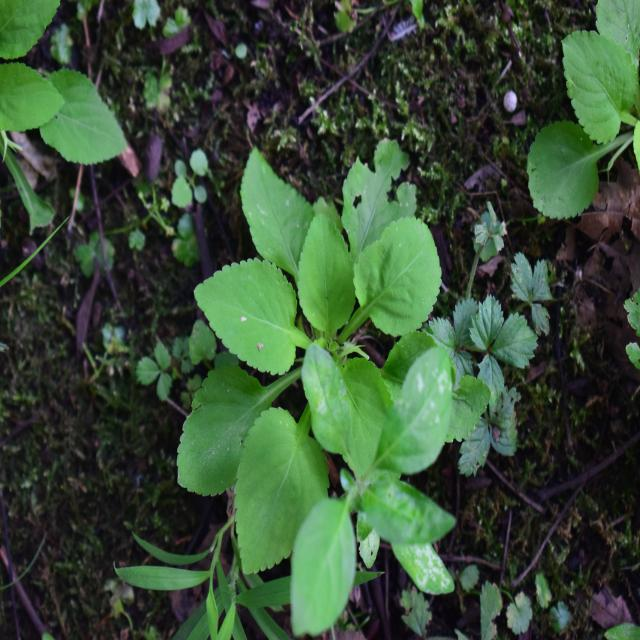Viola: (185, 165, 446, 490)
